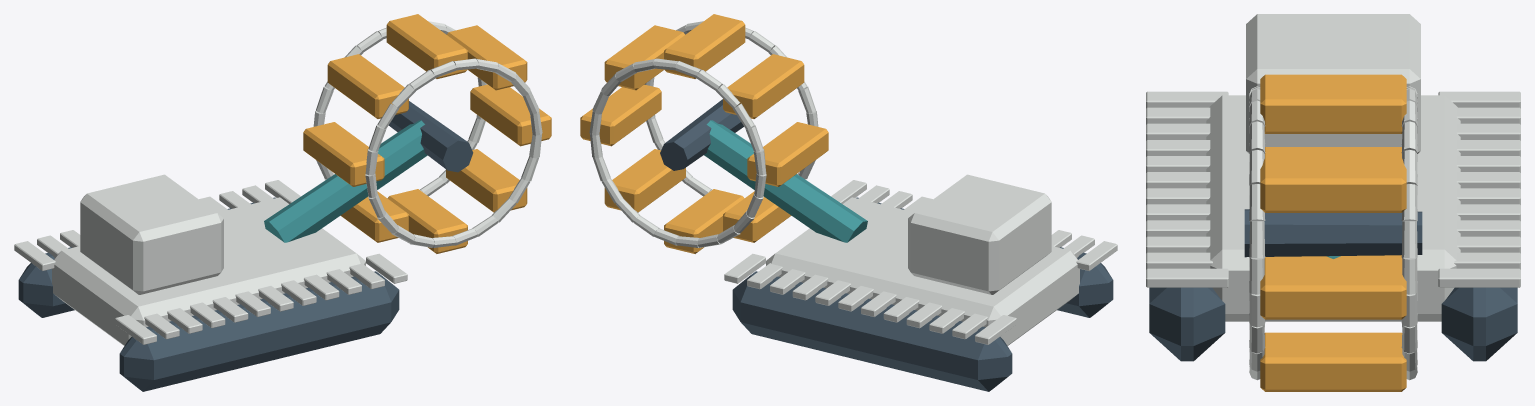
The picture shows the model from 3 angles, left to right: view 1: azimuth 30°, elevation 25°; view 2: azimuth 150°, elevation 25°; view 3: azimuth 270°, elevation 25°; orthographic projection. The views are drawn at different scales.
Visible parts, largest first — view 1: ME-032 Bucket-wheel regolith excavator batched; view 2: ME-032 Bucket-wheel regolith excavator batched; view 3: ME-032 Bucket-wheel regolith excavator batched.
Part boxes in pixels (box(x1,y1,x2,y2)): ME-032 Bucket-wheel regolith excavator batched: box(14, 14, 551, 391); ME-032 Bucket-wheel regolith excavator batched: box(580, 14, 1117, 391); ME-032 Bucket-wheel regolith excavator batched: box(1146, 14, 1520, 391).
Bounding box in the file's own units: 2.41 × 1.19 × 1.18.
